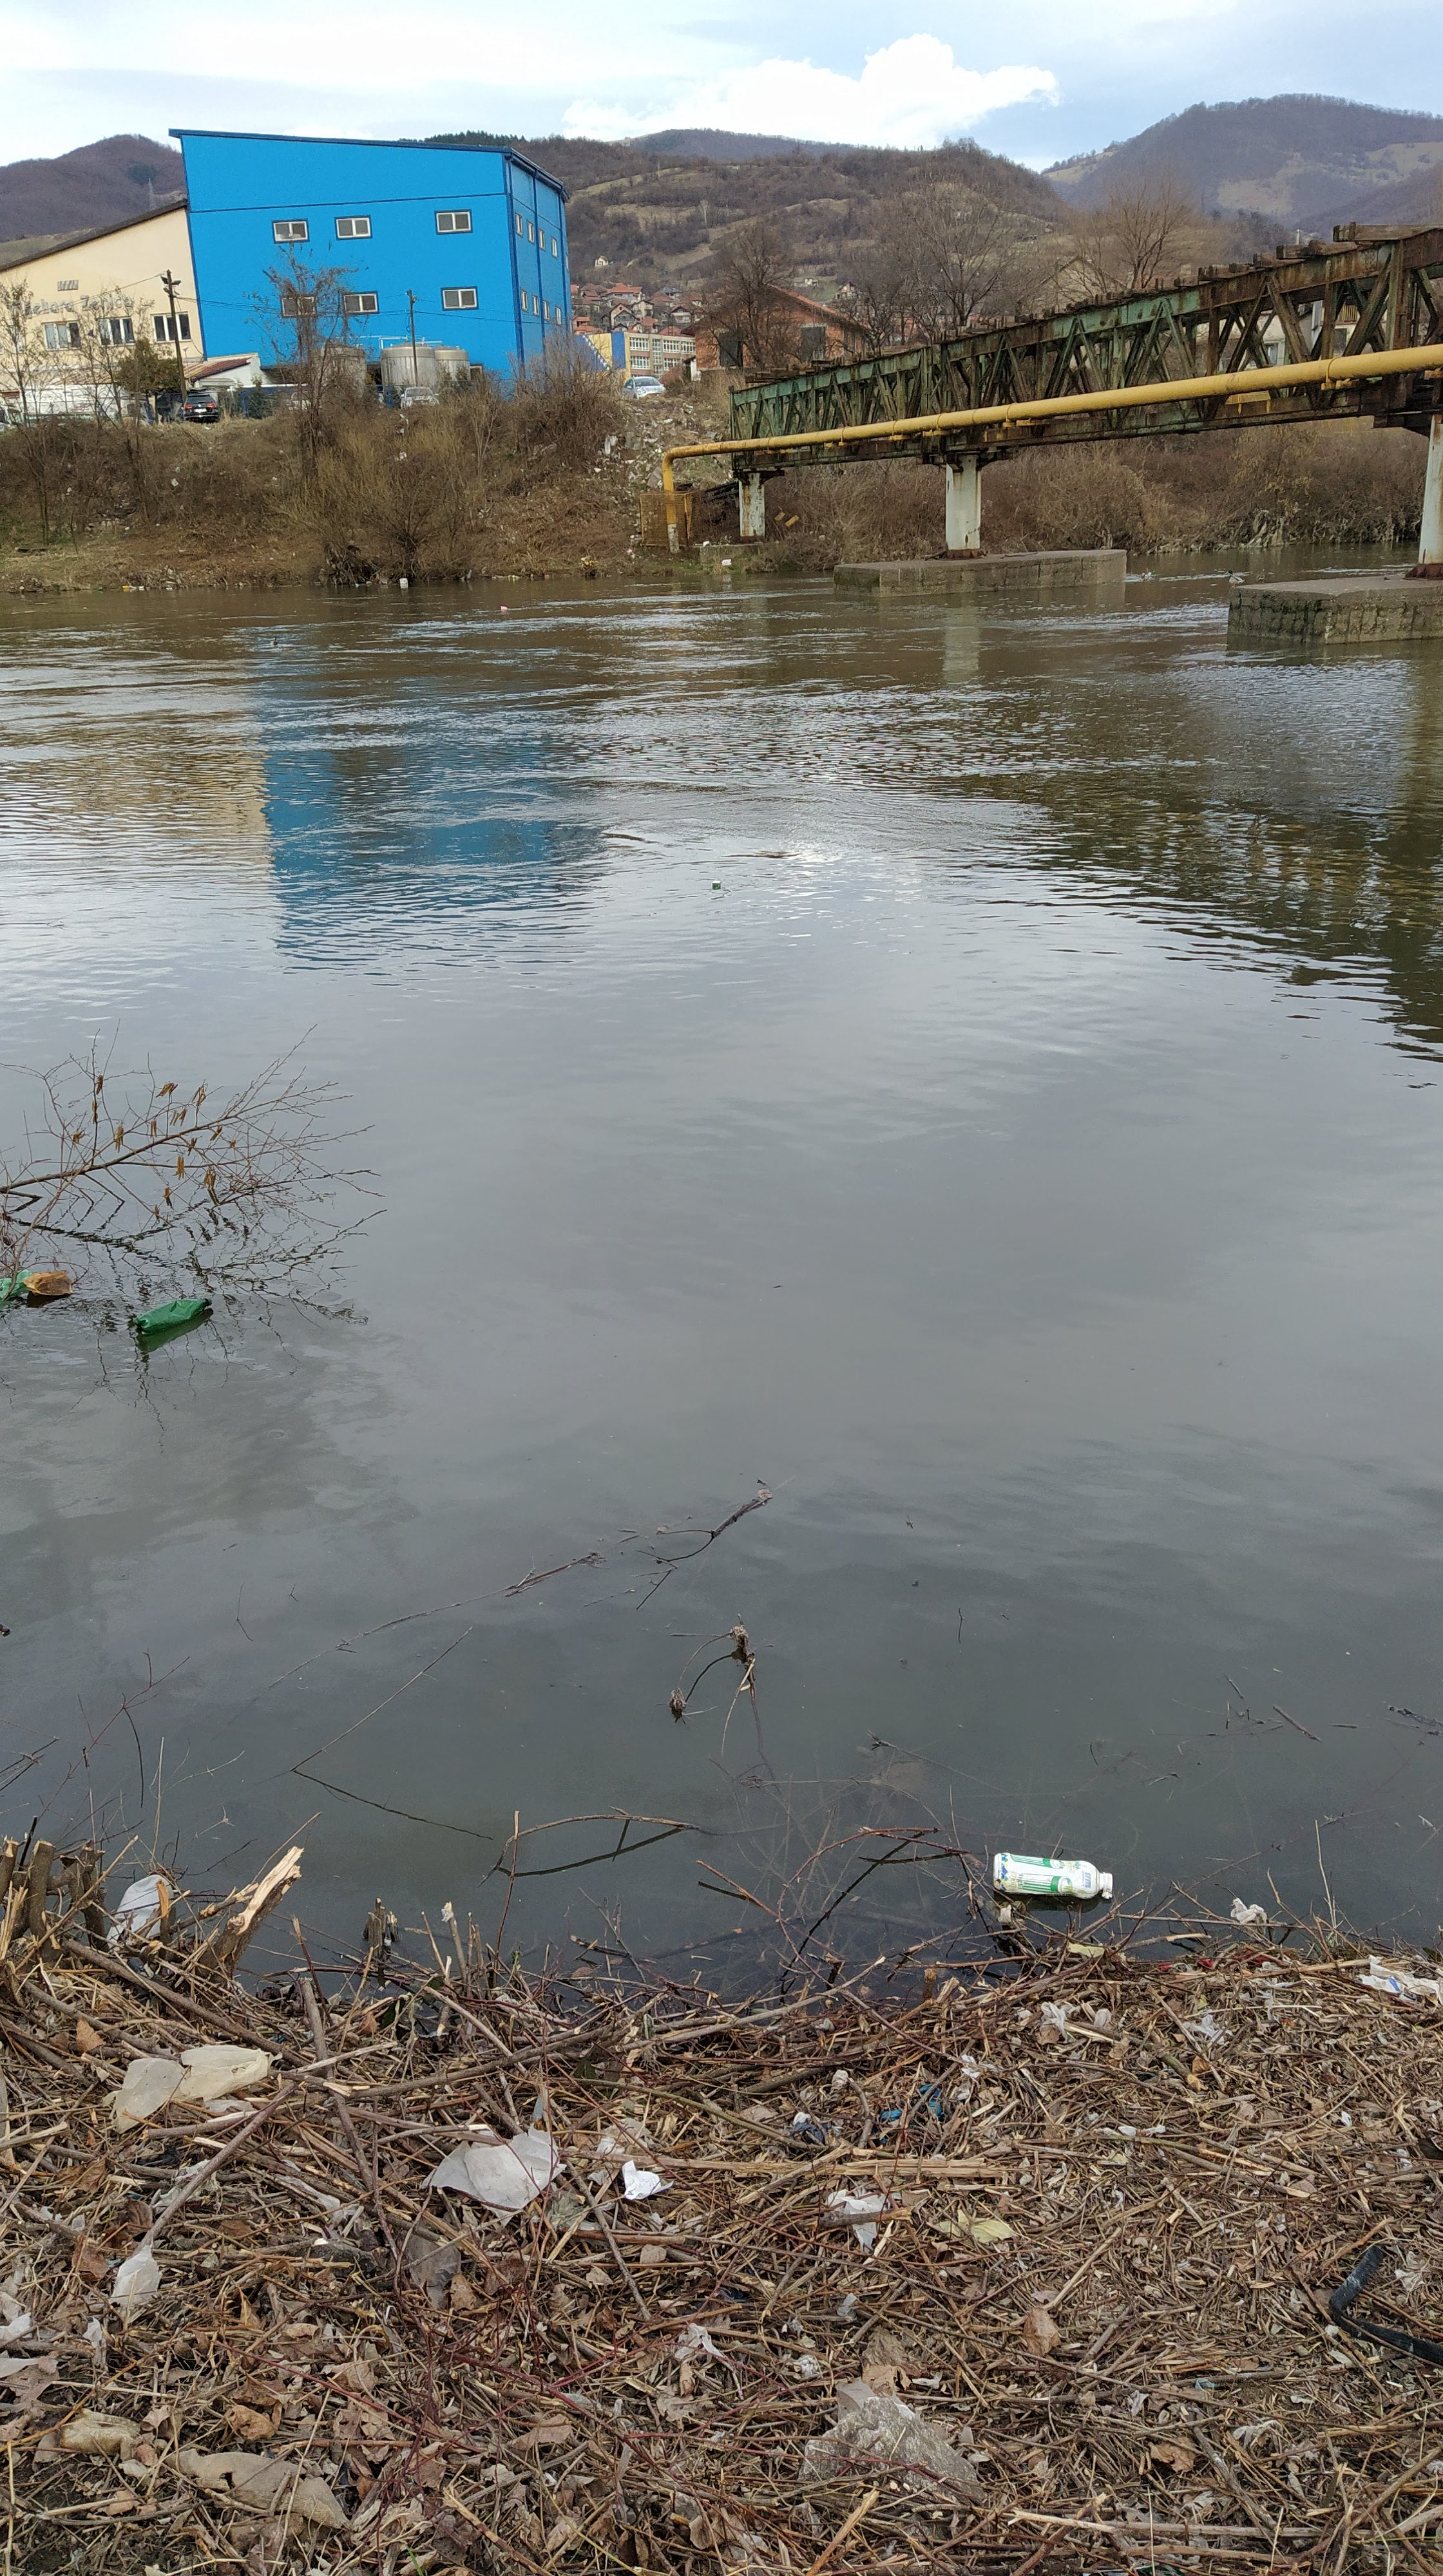Plastic Bottle: (992, 1852, 1112, 1898), (106, 1872, 174, 1948), (135, 1297, 212, 1336), (0, 1269, 32, 1300), (712, 881, 722, 890), (1146, 571, 1154, 575), (97, 587, 103, 591), (501, 607, 506, 610)
